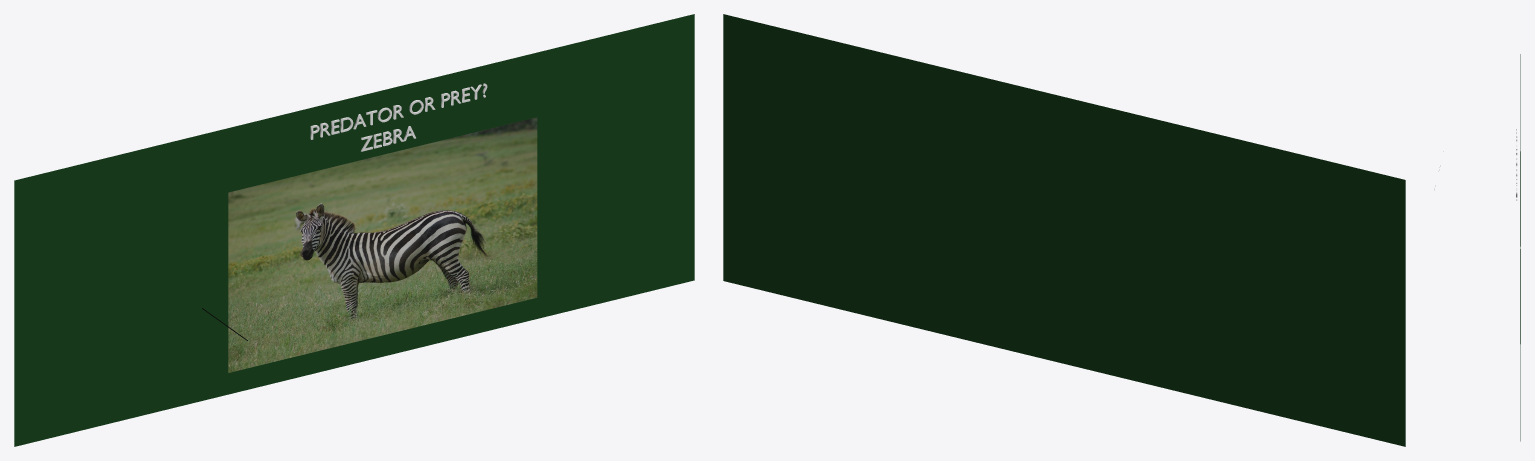
File: zebra.gltf
3 renders of one model, left to right at view 1: azimuth 30°, elevation 25°; view 2: azimuth 150°, elevation 25°; view 3: azimuth 270°, elevation 25°, orthographic. The views are drawn at different scales.
Parts seen in each view (by area): view 1: Plane.013, Plane, Text.008; view 2: Plane.013; view 3: Plane.013, Text.008.
Boxes of the visible parts, box(x1,y1,x2,y2) form: Plane.013: box(14, 14, 694, 446); Plane: box(228, 117, 537, 372); Text.008: box(310, 83, 487, 139); Plane.013: box(723, 14, 1405, 446); Plane.013: box(1520, 54, 1520, 441); Text.008: box(1516, 129, 1517, 200).
Size of the model in its own units: 15.94 by 5.96 by 2.43.
5 materials, 1 textured.
